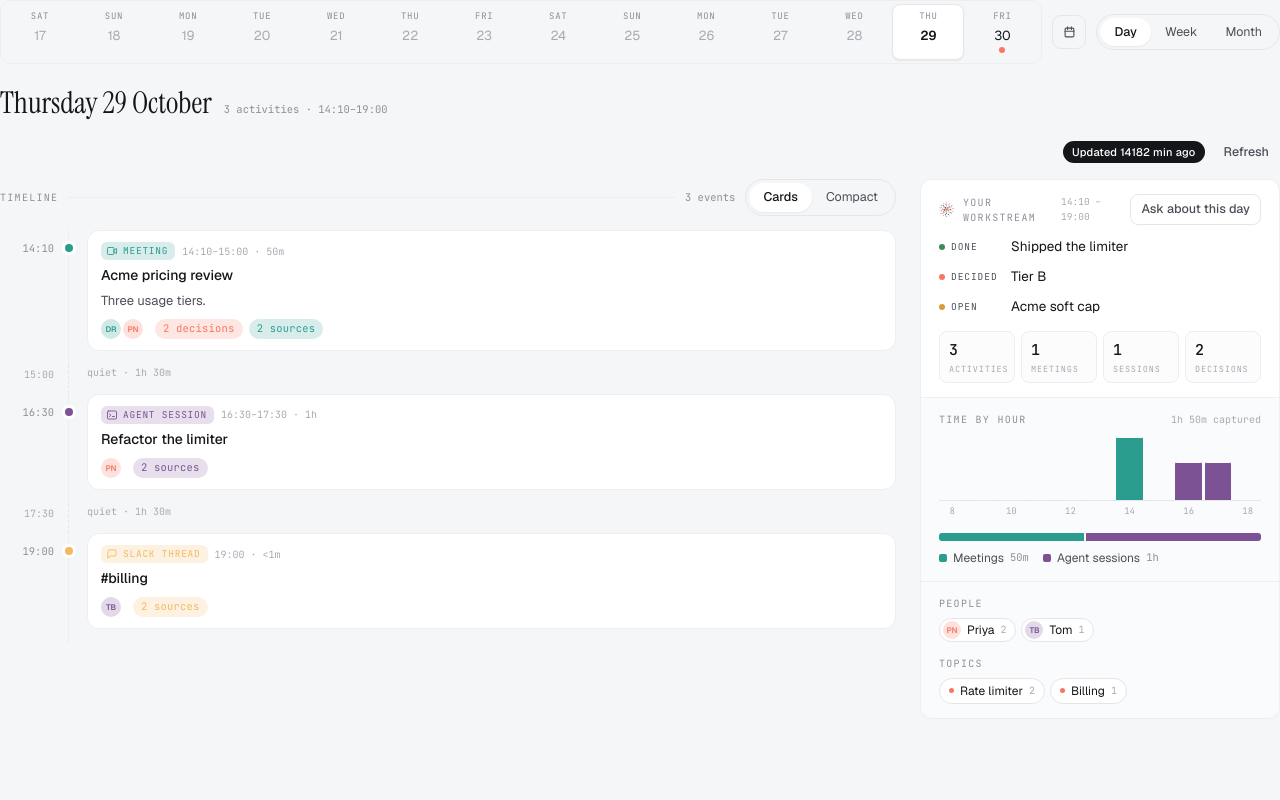
Test: Today, detail panel › steps through the filtered list only
The width and height of the screenshot is (1280, 800).
Expected: the text "Acme pricing review" is shown, [101,265,233,286]
Click the button "PN Priya 2" at (978, 630), box [939,618,1016,642]
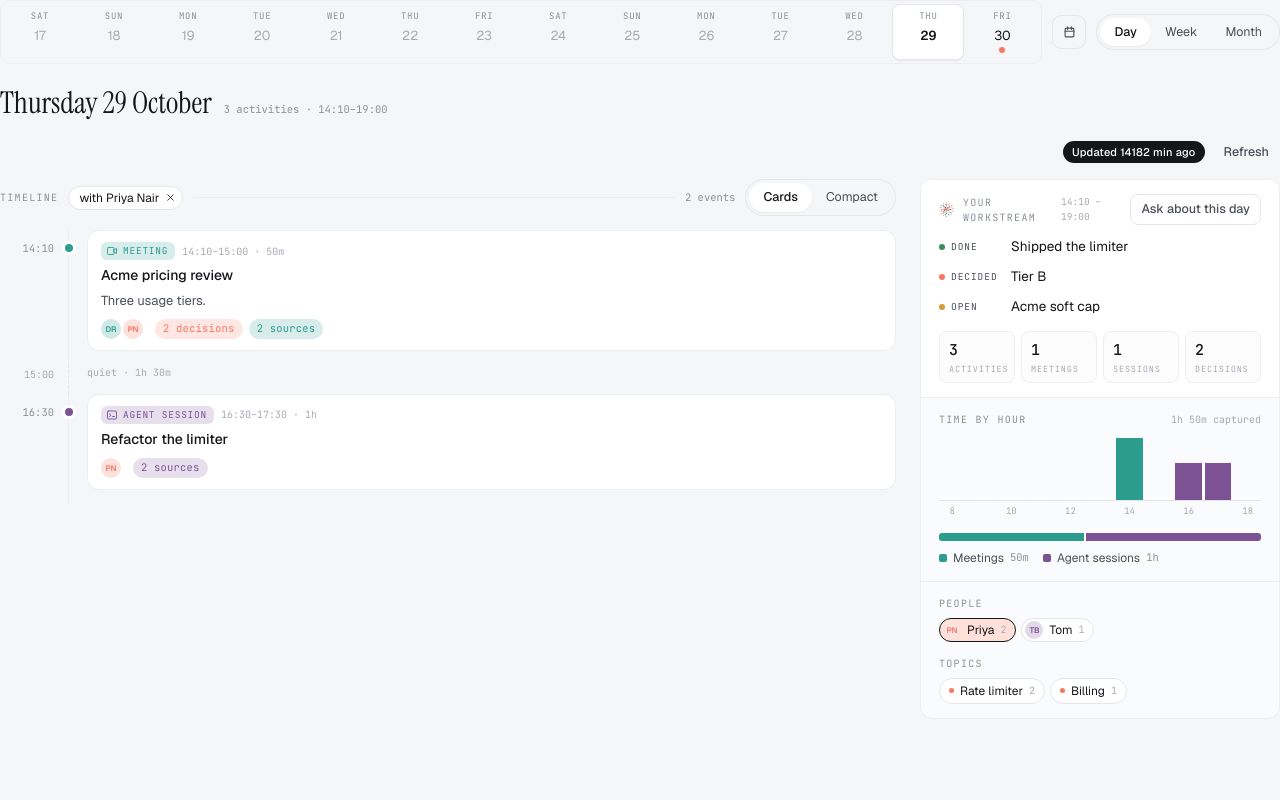
Click the button "Acme pricing review" at (138, 251), box [87,230,896,351]
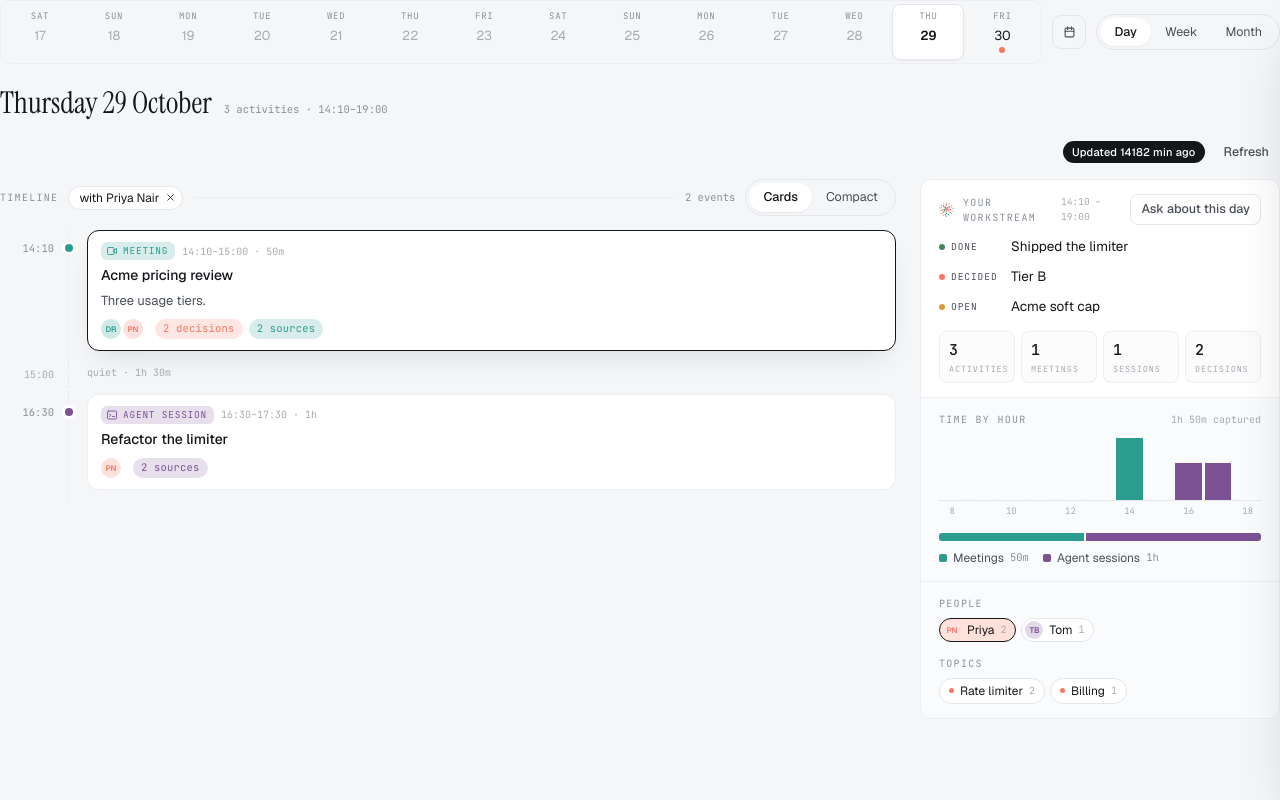
Press ArrowDown
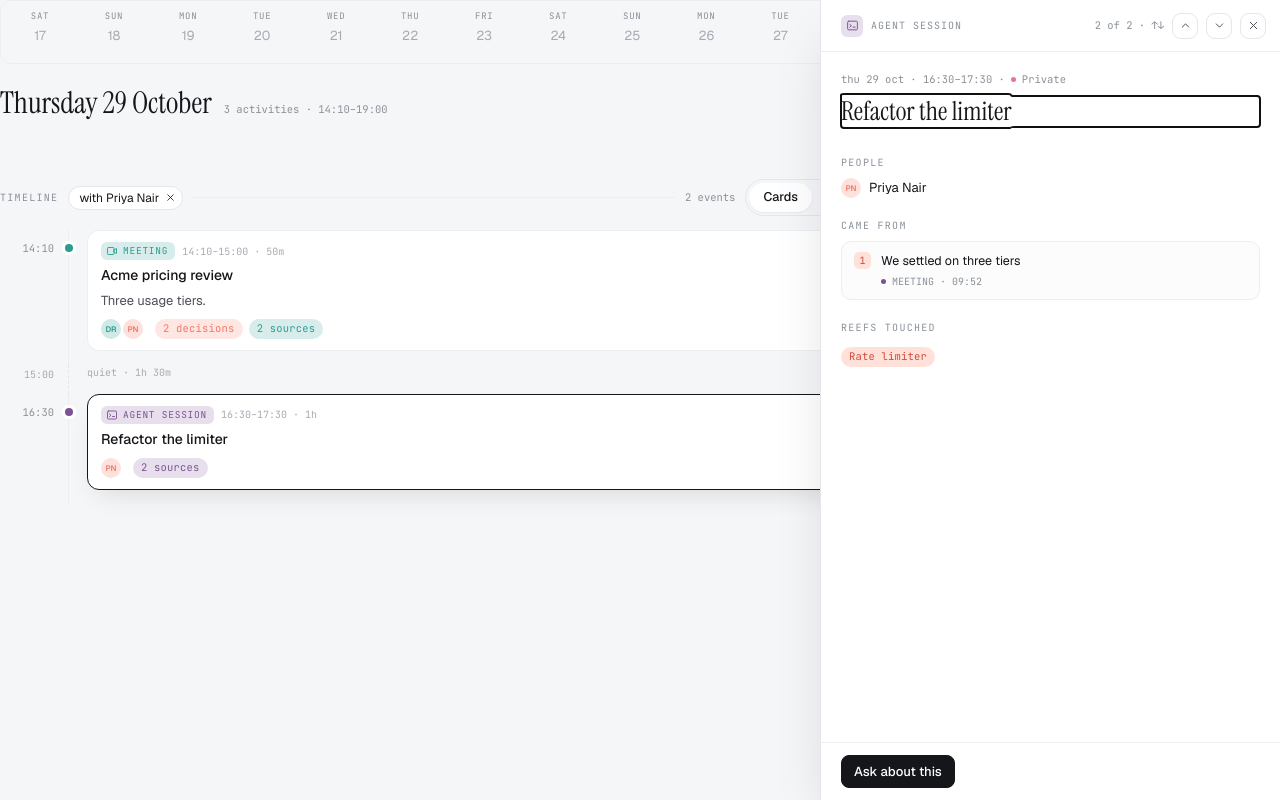
Expected: the dialog named "Refactor the limiter" is shown, [820,0,1279,799]
Press ArrowDown
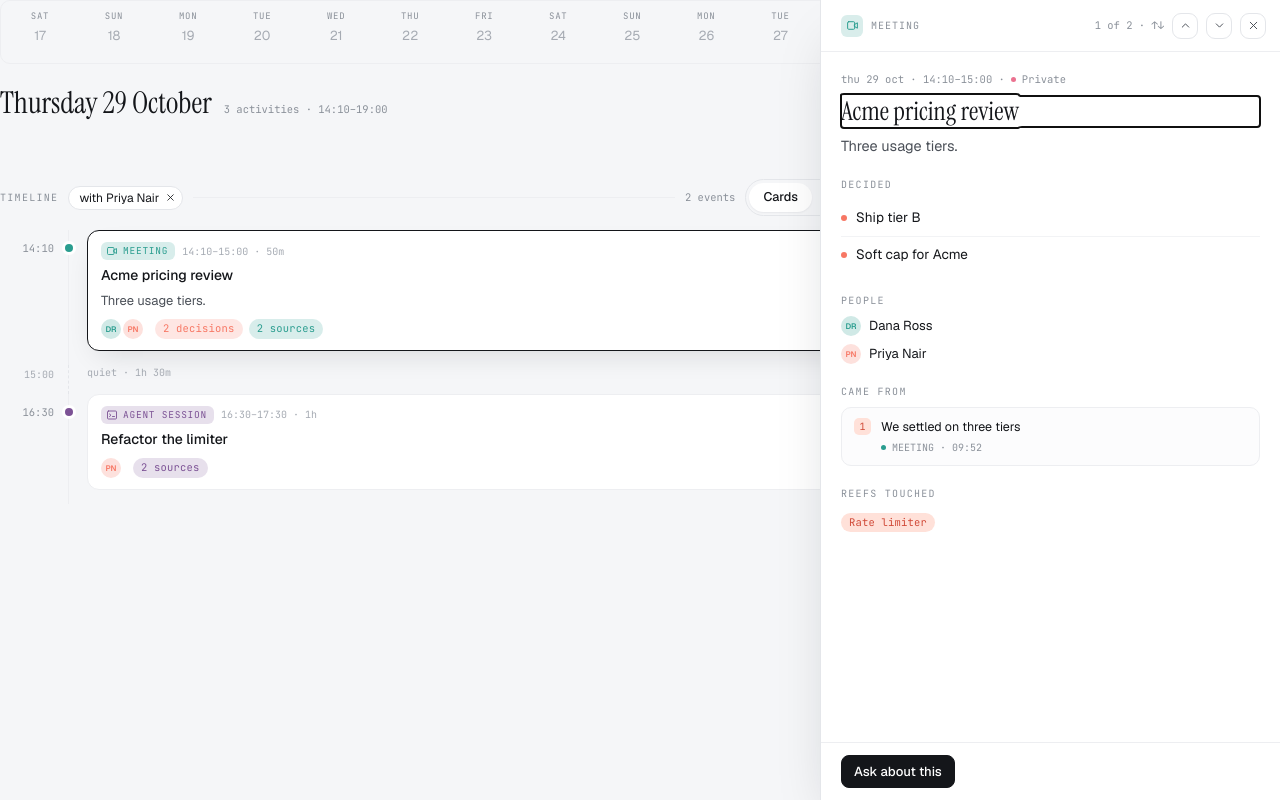
Expected: the dialog "Acme pricing review" is shown, [820,0,1279,799]
